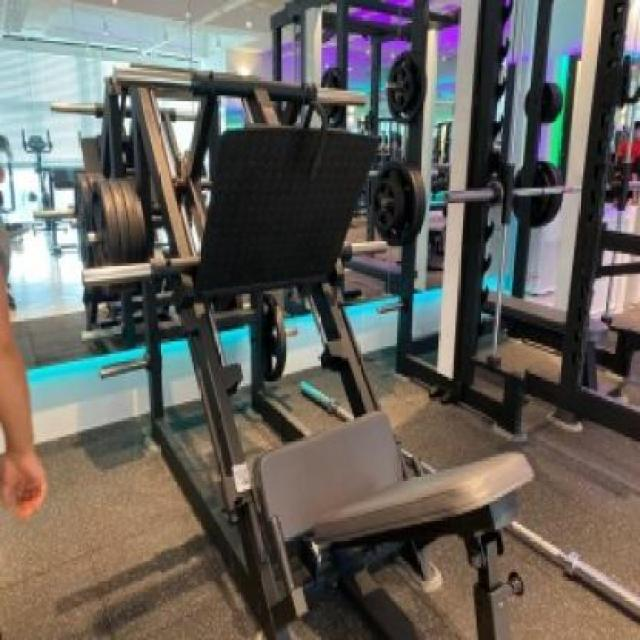leg press: (46, 44, 558, 640)
